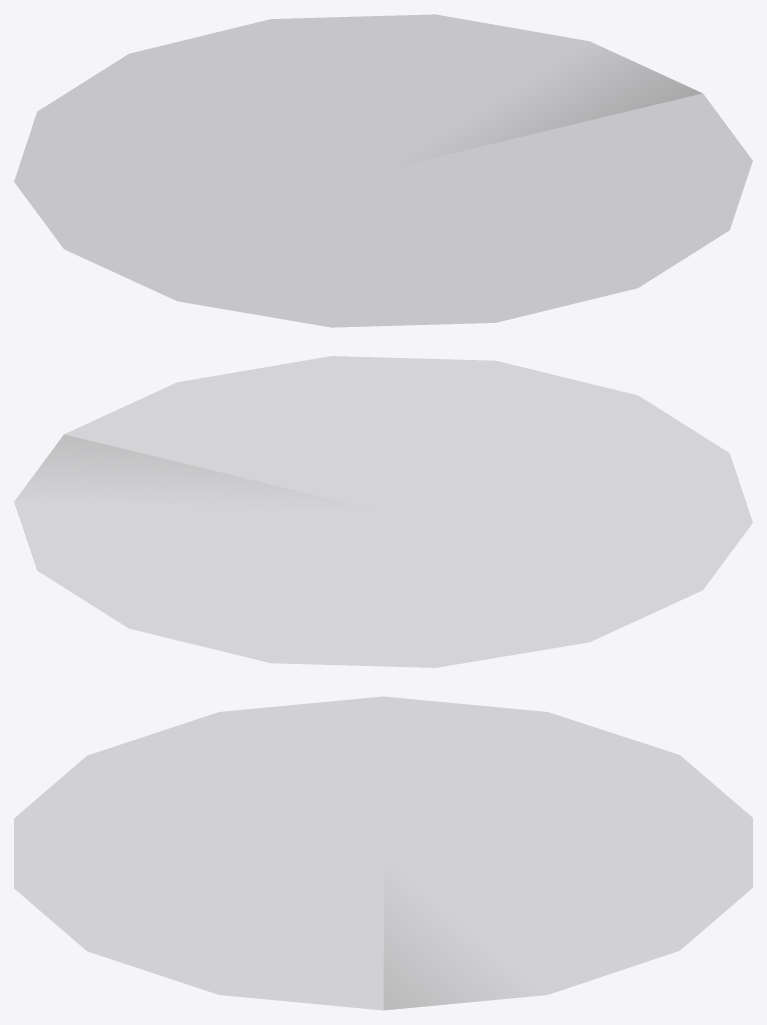
3 views of the same model, one above another, from view 1: azimuth 30°, elevation 25°; view 2: azimuth 150°, elevation 25°; view 3: azimuth 270°, elevation 25° (orthographic).
Parts seen in each view (by area): view 1: Joint_0_Object_0; view 2: Joint_0_Object_0; view 3: Joint_0_Object_0.
Part boxes in pixels (<box>): Joint_0_Object_0: <box>14,14,752,327</box>; Joint_0_Object_0: <box>14,356,752,667</box>; Joint_0_Object_0: <box>14,696,752,1010</box>.
Bounding box in the file's own units: 530 × 0.7975 × 527.
Materials: 1 (1 with a texture image).
